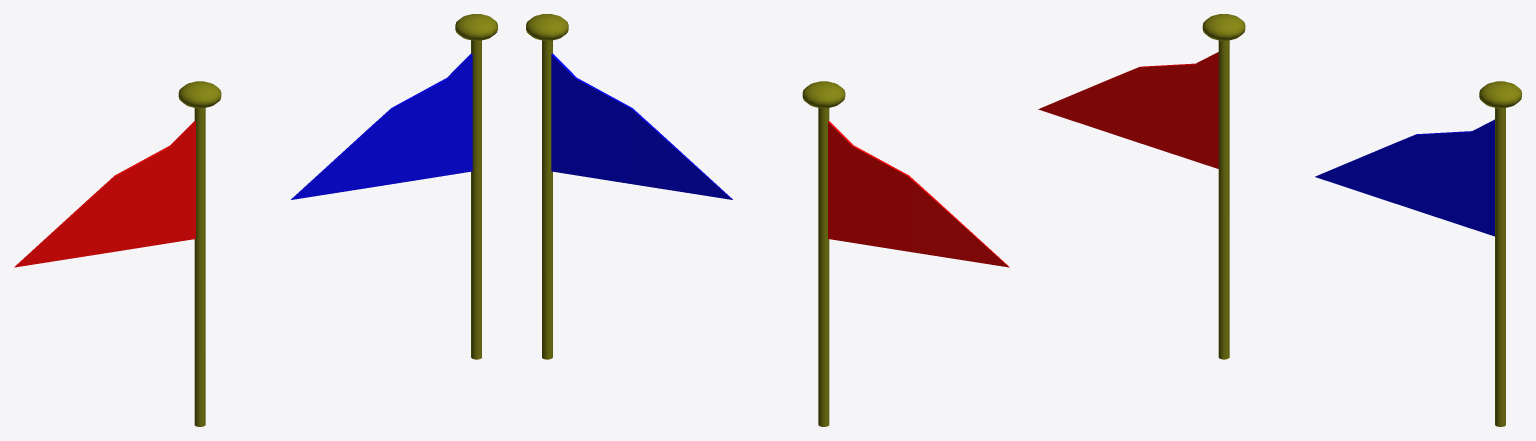
Rendered from bandiere.fbx.
3 views of the same model, side by side, from view 1: azimuth 30°, elevation 25°; view 2: azimuth 150°, elevation 25°; view 3: azimuth 330°, elevation 25° (orthographic).
Parts seen in each view (by area): view 1: flag (×2), red_flag, blue_flag; view 2: flag (×2), red_flag, blue_flag; view 3: flag (×2), red_flag, blue_flag.
Part boxes in pixels (x1,y1,x2,y2): flag (×2): (14, 53, 472, 267); red_flag: (178, 81, 221, 426); blue_flag: (455, 14, 497, 359); flag (×2): (551, 53, 1009, 267); red_flag: (802, 81, 845, 426); blue_flag: (526, 14, 568, 359); flag (×2): (1038, 52, 1494, 236); red_flag: (1202, 14, 1245, 359); blue_flag: (1479, 81, 1521, 426).
Bounding box in the file's own units: 179 × 121 × 13.7.
